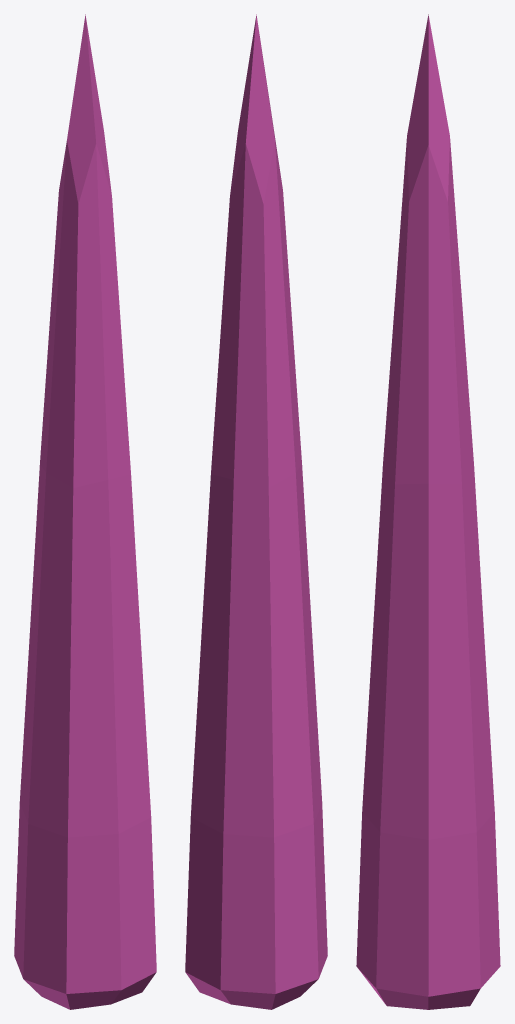
Rendered from VelociraptorSpike.fbx.
3 views of the same model, side by side, from view 1: azimuth 30°, elevation 25°; view 2: azimuth 150°, elevation 25°; view 3: azimuth 270°, elevation 25° (orthographic).
Parts seen in each view (by area): view 1: Cube; view 2: Cube; view 3: Cube.
Boxes of the visible parts, x1,y1,x2,y2 form: Cube: (14, 14, 156, 1009); Cube: (185, 14, 327, 1009); Cube: (356, 14, 500, 1009).
Size of the model in its own units: 5.18 by 38.63 by 5.18.
